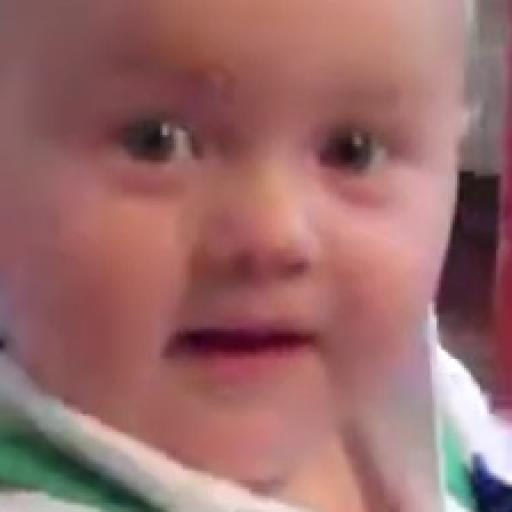Autism: (43, 0, 512, 510)
